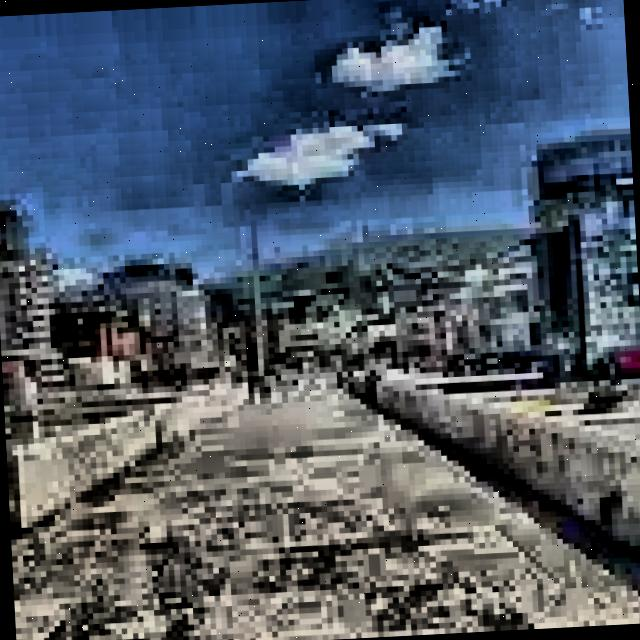alexander the great monument: (268, 265, 331, 388)
stone bridge: (2, 341, 640, 640)
